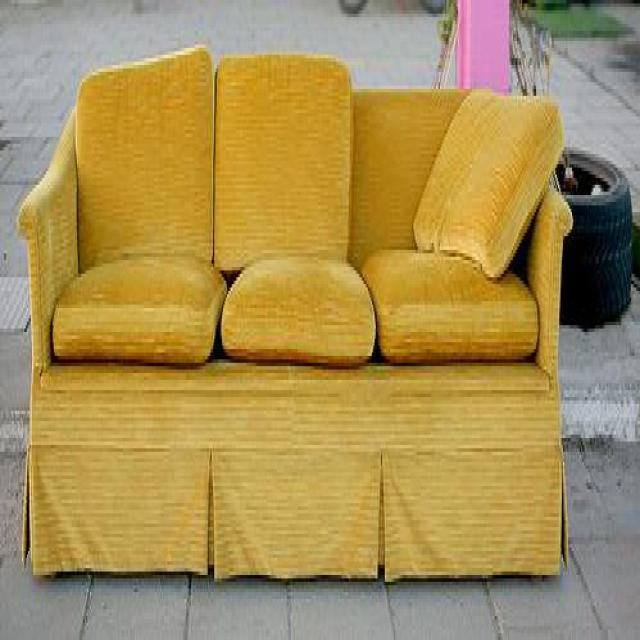sofa: (13, 49, 576, 588)
